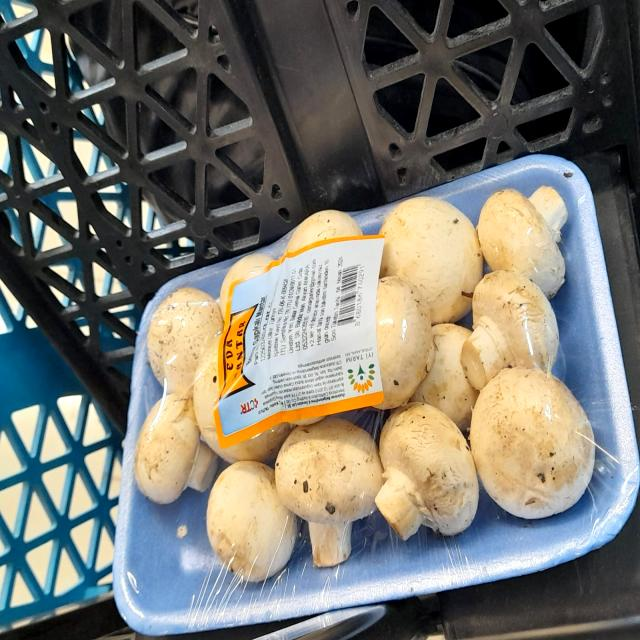mushroom: (466, 362, 597, 524), (371, 388, 481, 554), (273, 412, 383, 572), (472, 155, 587, 305), (459, 263, 563, 388), (129, 388, 219, 498), (144, 278, 226, 392)
